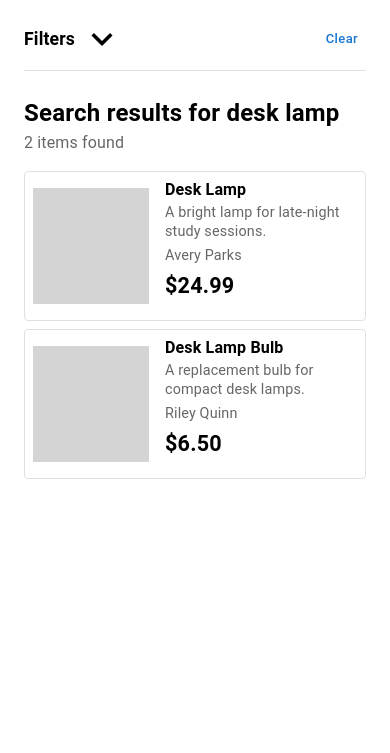
Scenario: renders the search filters sidebar
Check: the heading "Filters" is shown, box [24, 26, 75, 52]
Click the button named "Toggle filters" at {"x": 102, "y": 39}, box [79, 16, 125, 62]
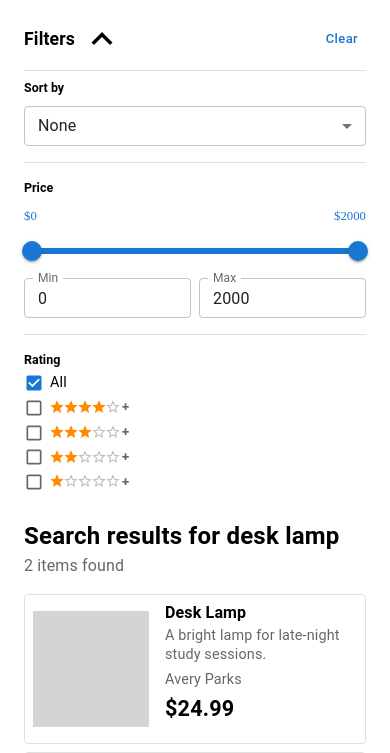
Check: the number of sliders named "Price range" is 2, box [22, 241, 42, 261]; [348, 241, 368, 261]
Check: the checkbox named "4+ stars" is shown, box [24, 398, 129, 418]
